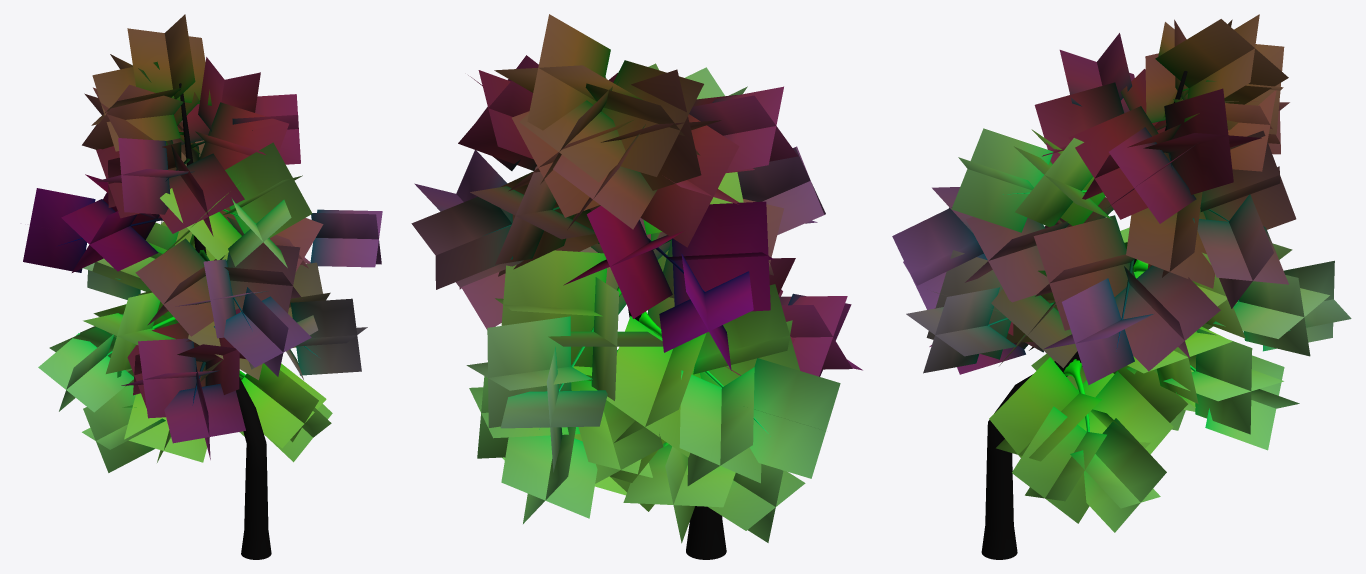
File: URP_P7_Tree_11_LOD_1.fbx
3 renders of one model, left to right at view 1: azimuth 30°, elevation 25°; view 2: azimuth 150°, elevation 25°; view 3: azimuth 270°, elevation 25°, orthographic. The views are drawn at different scales.
Visible parts, largest first — view 1: Tree_11_LOD_1; view 2: Tree_11_LOD_1; view 3: Tree_11_LOD_1.
Boxes of the visible parts, box(x1,y1,x2,y2) form: Tree_11_LOD_1: box(23, 14, 382, 559); Tree_11_LOD_1: box(411, 14, 862, 559); Tree_11_LOD_1: box(892, 14, 1351, 559).
Bounding box in the file's own units: 295 × 403 × 307.
